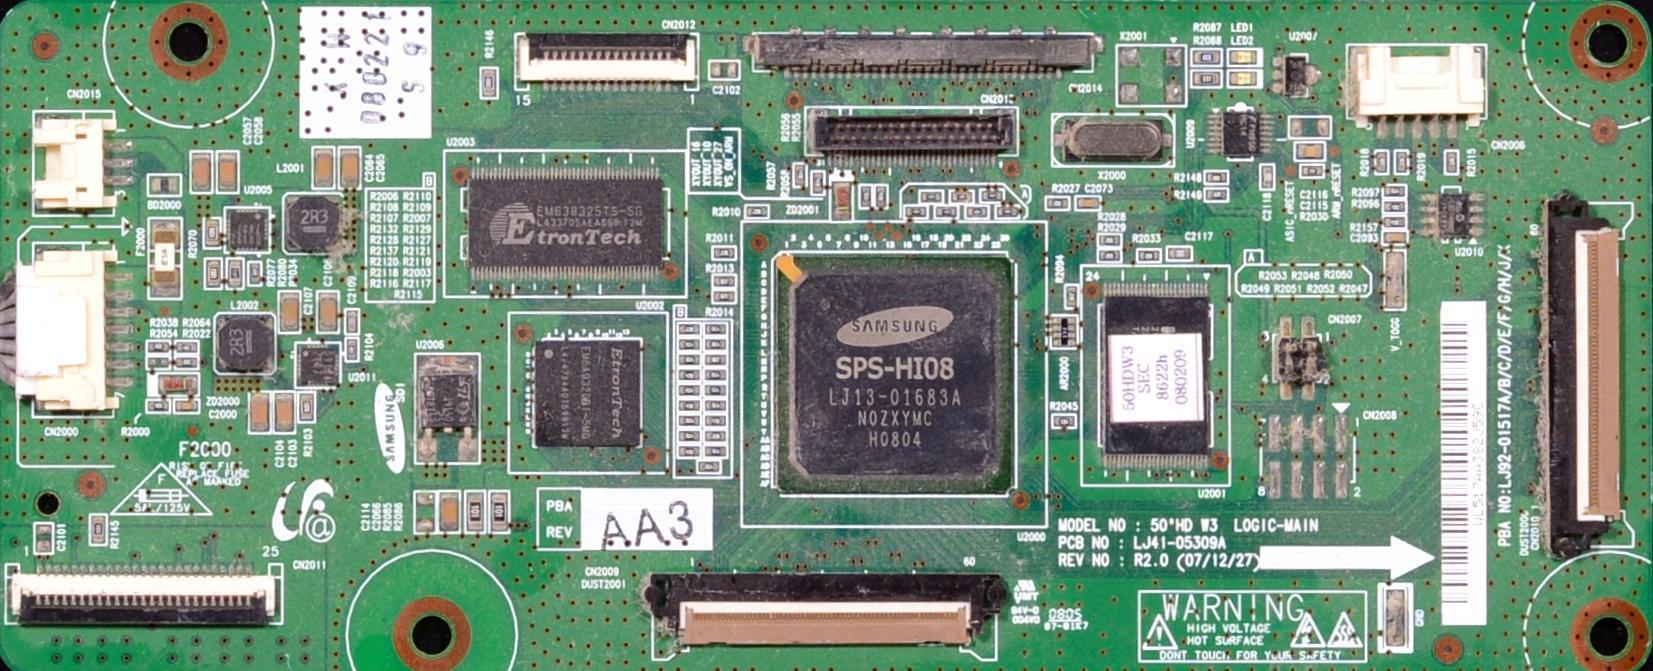Capacitor: (192, 152, 211, 191), (250, 393, 269, 431), (219, 150, 236, 191), (283, 291, 298, 329), (319, 293, 335, 330), (442, 495, 457, 530), (340, 150, 355, 185), (314, 148, 328, 183), (34, 523, 51, 551), (1295, 143, 1323, 158), (711, 61, 737, 77), (279, 395, 289, 429), (1259, 168, 1272, 191), (1076, 197, 1100, 210), (1167, 249, 1188, 263), (348, 309, 356, 334), (175, 401, 197, 410), (1389, 235, 1403, 243)
IC: (775, 254, 1015, 493), (472, 167, 663, 276), (1104, 282, 1209, 465), (536, 336, 640, 447), (421, 360, 480, 448), (224, 204, 271, 250), (299, 346, 341, 388), (1223, 111, 1262, 151), (1440, 194, 1473, 237), (1286, 56, 1312, 95)
Resistor: (1193, 49, 1224, 66), (491, 493, 505, 530), (467, 492, 480, 528), (477, 67, 492, 96), (229, 260, 243, 288), (298, 391, 312, 421), (91, 510, 103, 541), (206, 259, 219, 286), (1192, 72, 1221, 84), (1136, 247, 1158, 263), (1393, 147, 1406, 171), (1373, 148, 1385, 172), (749, 205, 771, 218), (147, 356, 172, 367), (715, 245, 736, 259), (207, 218, 217, 245), (177, 353, 198, 366), (1053, 415, 1073, 427), (811, 174, 822, 195), (970, 207, 991, 218), (715, 290, 738, 301), (1068, 286, 1079, 307), (250, 262, 260, 284), (146, 400, 168, 410), (1444, 152, 1456, 172), (1205, 172, 1225, 182), (715, 273, 733, 285), (681, 337, 699, 348), (1303, 167, 1322, 177), (1388, 204, 1407, 214), (347, 341, 357, 360), (1000, 205, 1021, 214), (984, 191, 1001, 201), (706, 323, 724, 333), (861, 184, 869, 207), (1047, 198, 1070, 206), (796, 167, 805, 185), (149, 342, 167, 351), (1096, 235, 1116, 244), (1210, 190, 1227, 199), (1385, 188, 1401, 197), (908, 207, 924, 216), (682, 355, 698, 364), (708, 399, 722, 409), (878, 185, 885, 207), (1384, 221, 1406, 227), (710, 384, 724, 393), (177, 344, 198, 350), (711, 367, 726, 376), (679, 445, 697, 453), (708, 417, 723, 425), (956, 189, 969, 198), (922, 193, 938, 200), (682, 324, 698, 331), (708, 432, 722, 440), (704, 460, 716, 470), (683, 371, 698, 379), (680, 417, 695, 424), (709, 447, 721, 456), (710, 356, 722, 363), (684, 387, 701, 392), (936, 210, 952, 215), (1099, 254, 1115, 258), (708, 343, 723, 347), (684, 400, 696, 405), (685, 429, 697, 435)
